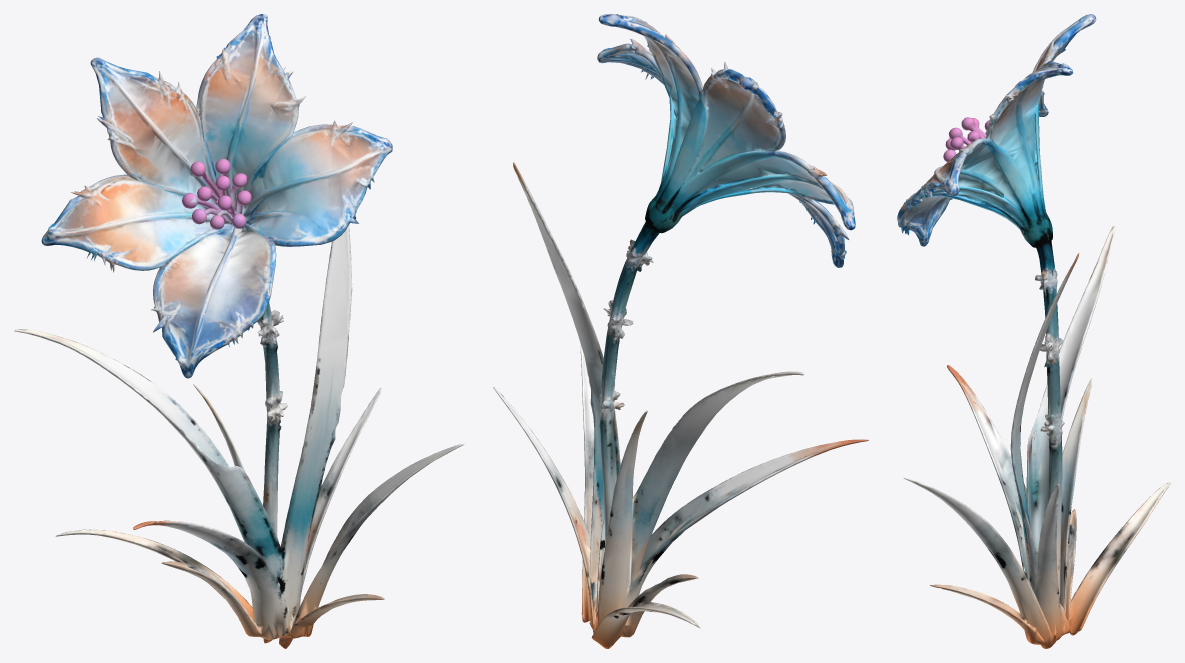
Rendered from 玄冰兰.glb.
3 views of the same model, side by side, from view 1: azimuth 30°, elevation 25°; view 2: azimuth 150°, elevation 25°; view 3: azimuth 270°, elevation 25° (orthographic). The views are drawn at different scales.
Visible parts, largest first — view 1: node_0; view 2: node_0; view 3: node_0.
Part boxes in pixels (bbox=[...]): node_0: bbox=[14, 14, 464, 648]; node_0: bbox=[493, 14, 868, 648]; node_0: bbox=[897, 14, 1170, 648].
Bounding box in the file's own units: 0.6747 × 1.17 × 0.5017.
Materials: 1 (1 with a texture image).
